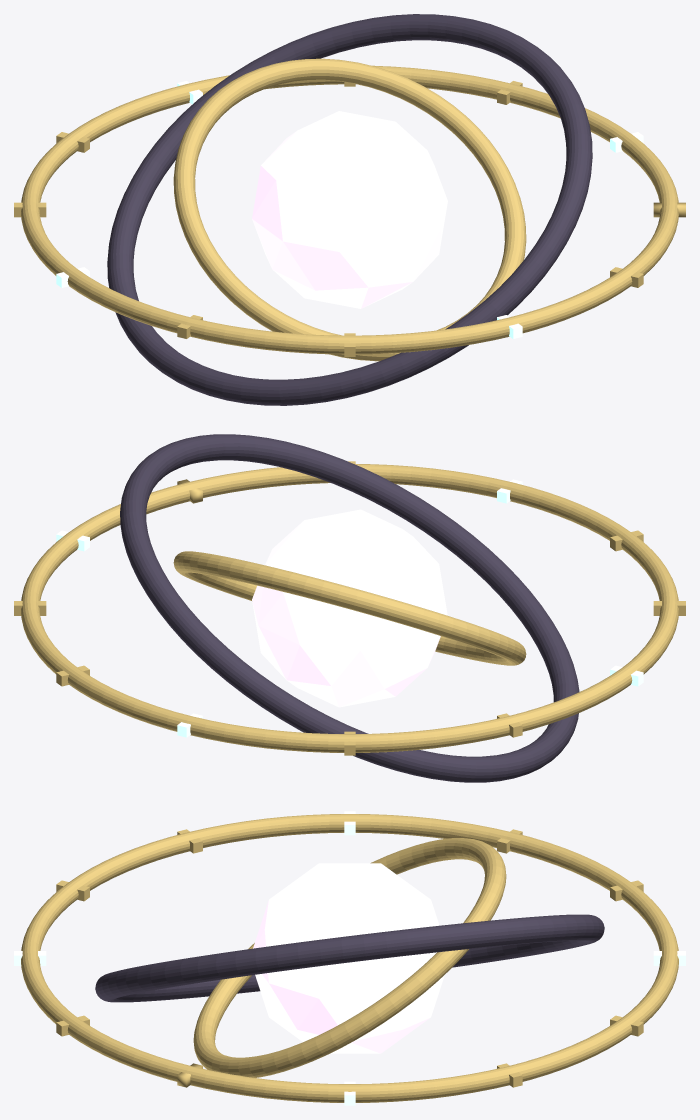
File: kronos_core.glb
The picture shows the model from 3 angles, top to bottom: view 1: azimuth 30°, elevation 25°; view 2: azimuth 150°, elevation 25°; view 3: azimuth 270°, elevation 25°; orthographic projection.
Visible parts, largest first — view 1: SM_Kronos_Stator_Mid, SM_Kronos_Core, SM_Kronos_Orbit_Outer, SM_Kronos_Gimbal_Inner; view 2: SM_Kronos_Stator_Mid, SM_Kronos_Orbit_Outer, SM_Kronos_Core, SM_Kronos_Gimbal_Inner; view 3: SM_Kronos_Orbit_Outer, SM_Kronos_Core, SM_Kronos_Stator_Mid, SM_Kronos_Gimbal_Inner.
Part boxes in pixels (x1=…): SM_Kronos_Stator_Mid: x1=107, y1=14, x2=592, y2=405; SM_Kronos_Core: x1=252, y1=111, x2=447, y2=308; SM_Kronos_Orbit_Outer: x1=21, y1=65, x2=678, y2=354; SM_Kronos_Gimbal_Inner: x1=173, y1=58, x2=526, y2=361; SM_Kronos_Stator_Mid: x1=120, y1=434, x2=579, y2=782; SM_Kronos_Orbit_Outer: x1=21, y1=464, x2=678, y2=752; SM_Kronos_Core: x1=252, y1=509, x2=447, y2=707; SM_Kronos_Gimbal_Inner: x1=173, y1=551, x2=526, y2=665; SM_Kronos_Orbit_Outer: x1=21, y1=814, x2=678, y2=1102; SM_Kronos_Core: x1=253, y1=863, x2=444, y2=1053; SM_Kronos_Stator_Mid: x1=95, y1=914, x2=604, y2=1002; SM_Kronos_Gimbal_Inner: x1=193, y1=838, x2=506, y2=1077.
Bounding box in the file's own units: 2.82 × 1.07 × 2.82.
